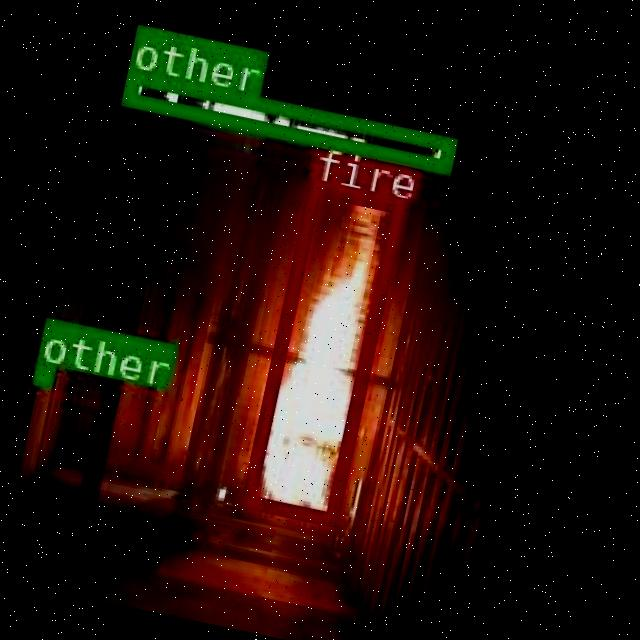fire: (237, 177, 402, 524)
